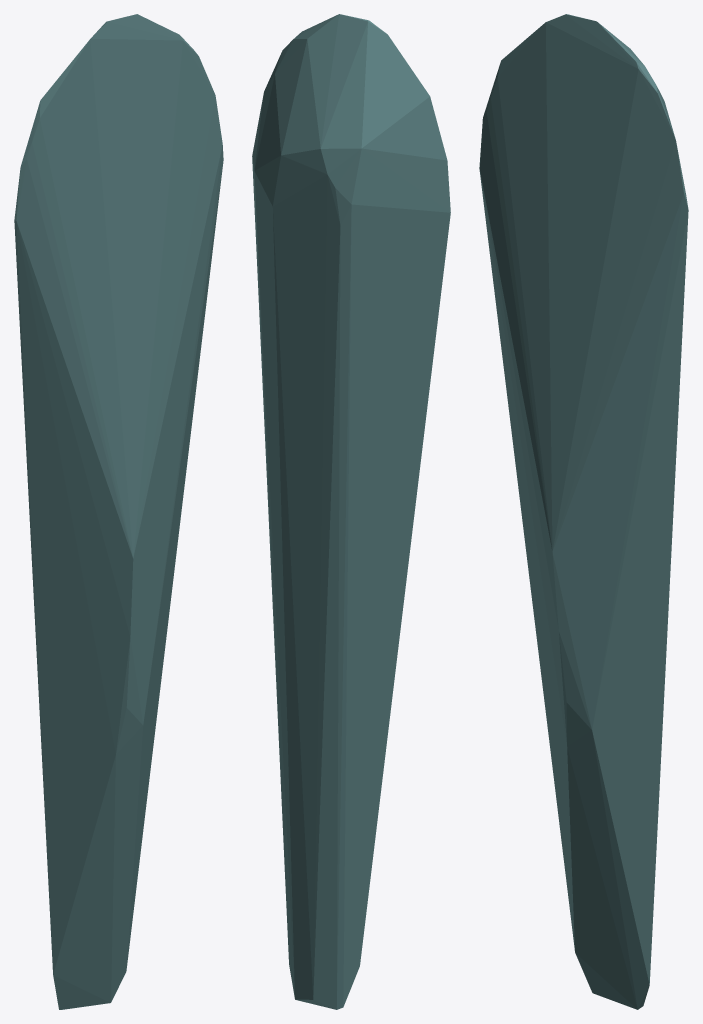
File: kitchenware_spoon_k01.glb
3 renders of one model, left to right at view 1: azimuth 30°, elevation 25°; view 2: azimuth 150°, elevation 25°; view 3: azimuth 330°, elevation 25°, orthographic. The views are drawn at different scales.
Parts seen in each view (by area): view 1: geometry_0; view 2: geometry_0; view 3: geometry_0.
Boxes of the visible parts, box(x1,y1,x2,y2) form: geometry_0: box(14, 14, 223, 1009); geometry_0: box(252, 14, 450, 1009); geometry_0: box(479, 14, 688, 1009).
Size of the model in its own units: 0.1035 by 0.4789 by 0.0533.
